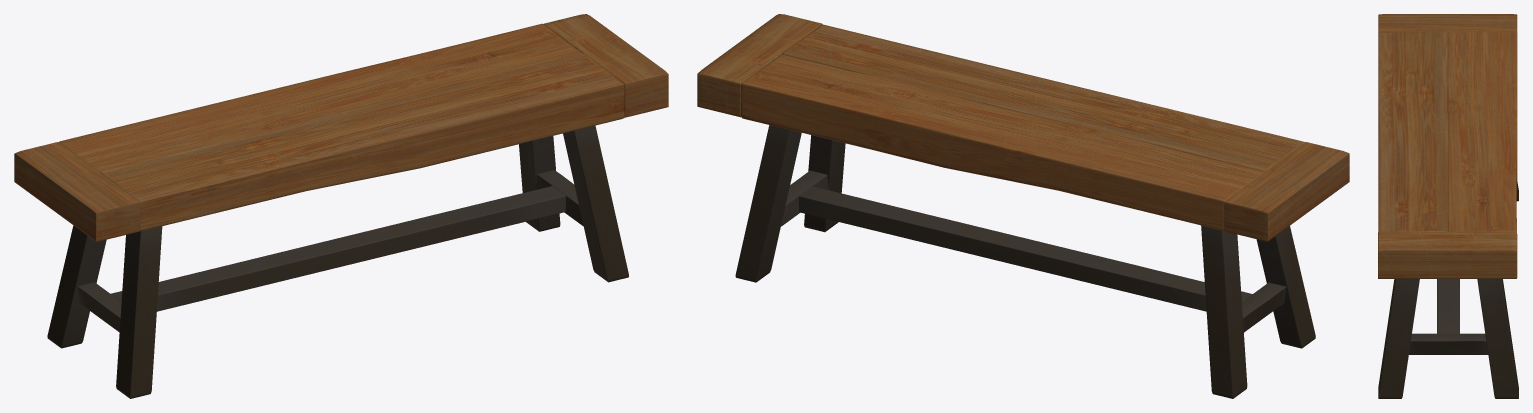
The model's file is bench_0.fbx.
3 views of the same model, side by side, from view 1: azimuth 30°, elevation 25°; view 2: azimuth 150°, elevation 25°; view 3: azimuth 270°, elevation 25° (orthographic). The views are drawn at different scales.
Parts seen in each view (by area): view 1: bench_0; view 2: bench_0; view 3: bench_0.
Boxes of the visible parts, x1=… form: bench_0: x1=14, y1=14, x2=668, y2=398; bench_0: x1=697, y1=14, x2=1349, y2=398; bench_0: x1=1378, y1=14, x2=1518, y2=398.
Bounding box in the file's own units: 161 × 52.97 × 40.57.
1 material, 1 textured.
